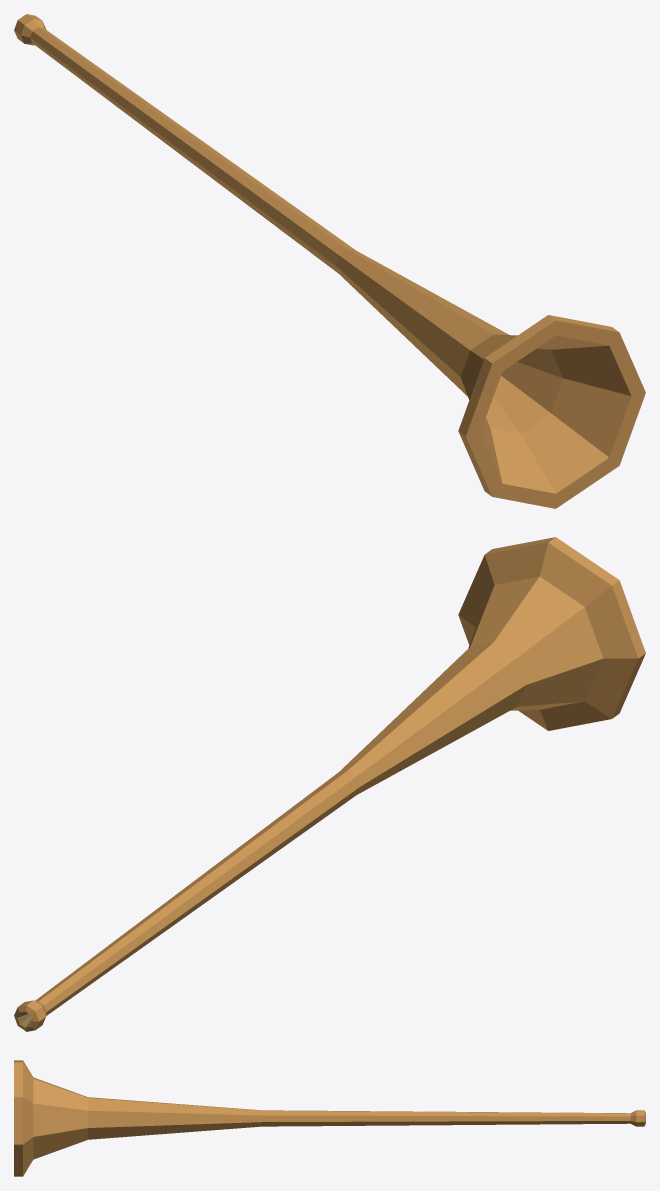
File: kingdom_SM_Item_Coach_Horn_01.gltf
3 views of the same model, one above another, from view 1: azimuth 30°, elevation 25°; view 2: azimuth 150°, elevation 25°; view 3: azimuth 270°, elevation 25° (orthographic). The views are drawn at different scales.
Parts seen in each view (by area): view 1: SM_Item_Coach_Horn_01; view 2: SM_Item_Coach_Horn_01; view 3: SM_Item_Coach_Horn_01.
Part boxes in pixels (x1,y1,x2,y2): SM_Item_Coach_Horn_01: (14, 14, 645, 508); SM_Item_Coach_Horn_01: (14, 537, 645, 1031); SM_Item_Coach_Horn_01: (14, 1060, 645, 1176).
Bounding box in the file's own units: 0.2715 × 0.2715 × 1.39.
Materials: 1 (1 with a texture image).
